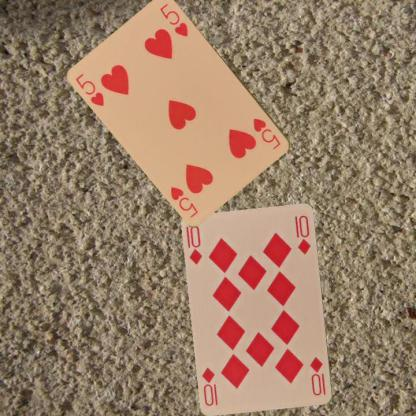10d: (308, 354, 328, 398), (187, 223, 204, 266)
5h: (73, 71, 106, 108), (250, 115, 282, 151)
